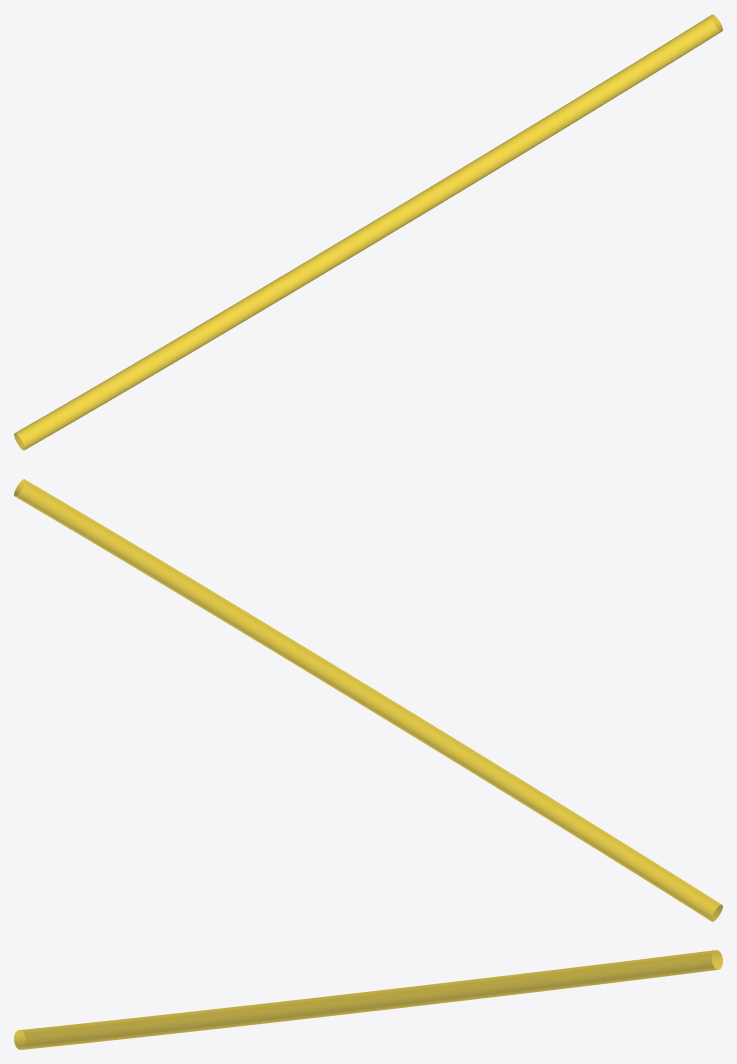
The model's file is Event_100608114_track_21.fbx.
The picture shows the model from 3 angles, top to bottom: view 1: azimuth 30°, elevation 25°; view 2: azimuth 150°, elevation 25°; view 3: azimuth 330°, elevation 25°; orthographic projection.
Visible parts, largest first — view 1: Model; view 2: Model; view 3: Model.
Boxes of the visible parts, x1=… form: Model: x1=14, y1=14, x2=722, y2=450; Model: x1=14, y1=479, x2=722, y2=921; Model: x1=14, y1=950, x2=722, y2=1049.
Size of the model in its own units: 1.63 by 0.5961 by 0.0558.
